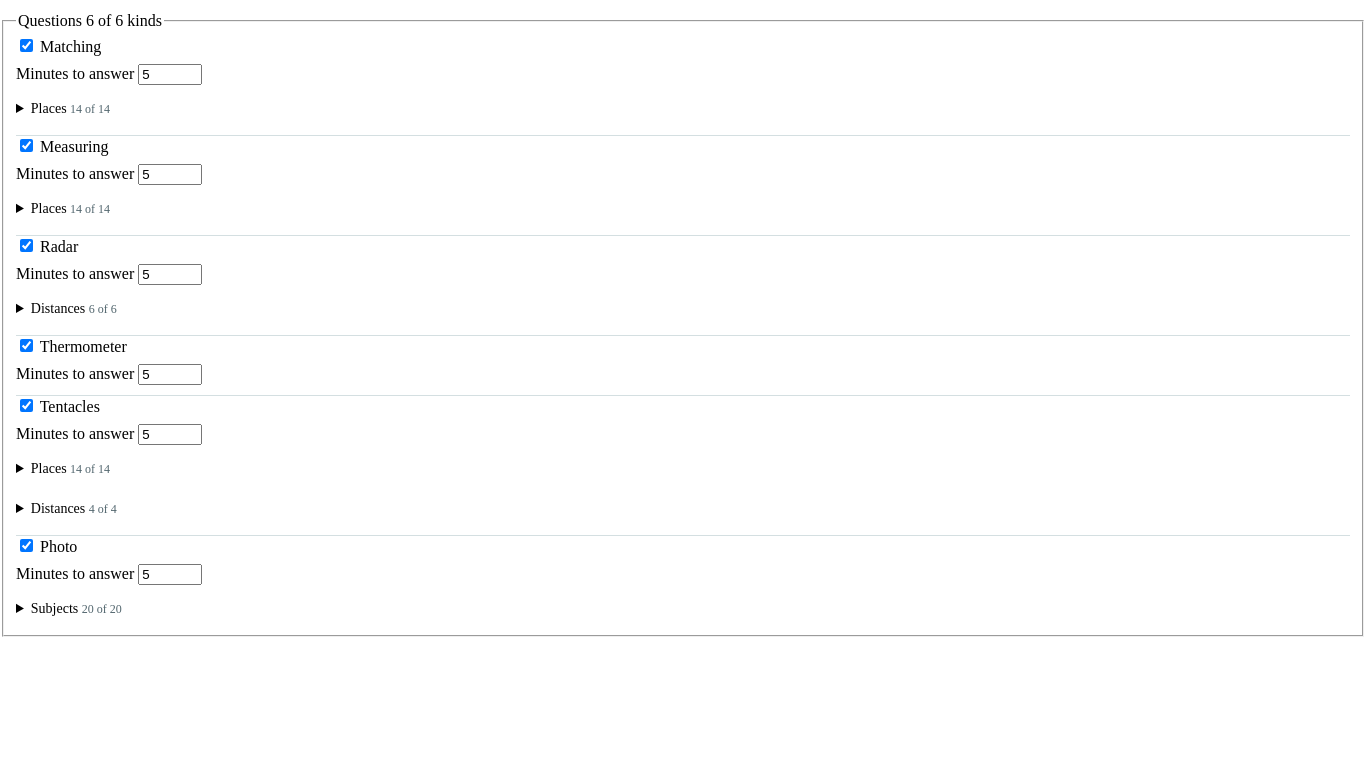
Test: TemplateQuestionsComponent › keeps the time to answer whole and in range, and gives a blank field the usual time
Replace the text in the number field with id "answer-minutes-RADAR" with "12" at (170, 274), box [138,264,202,285]
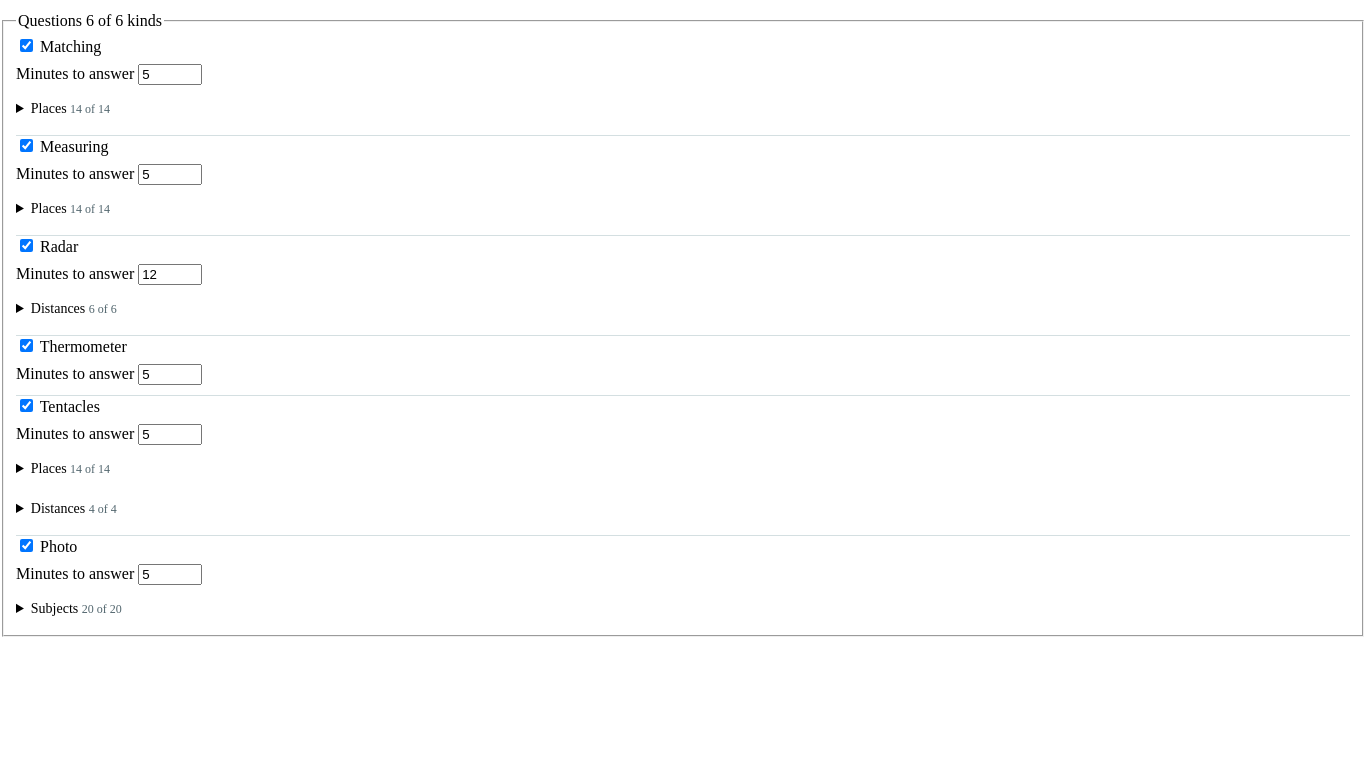
Replace the text in the number field with id "answer-minutes-RADAR" with "999" at (170, 274), box [138,264,202,285]
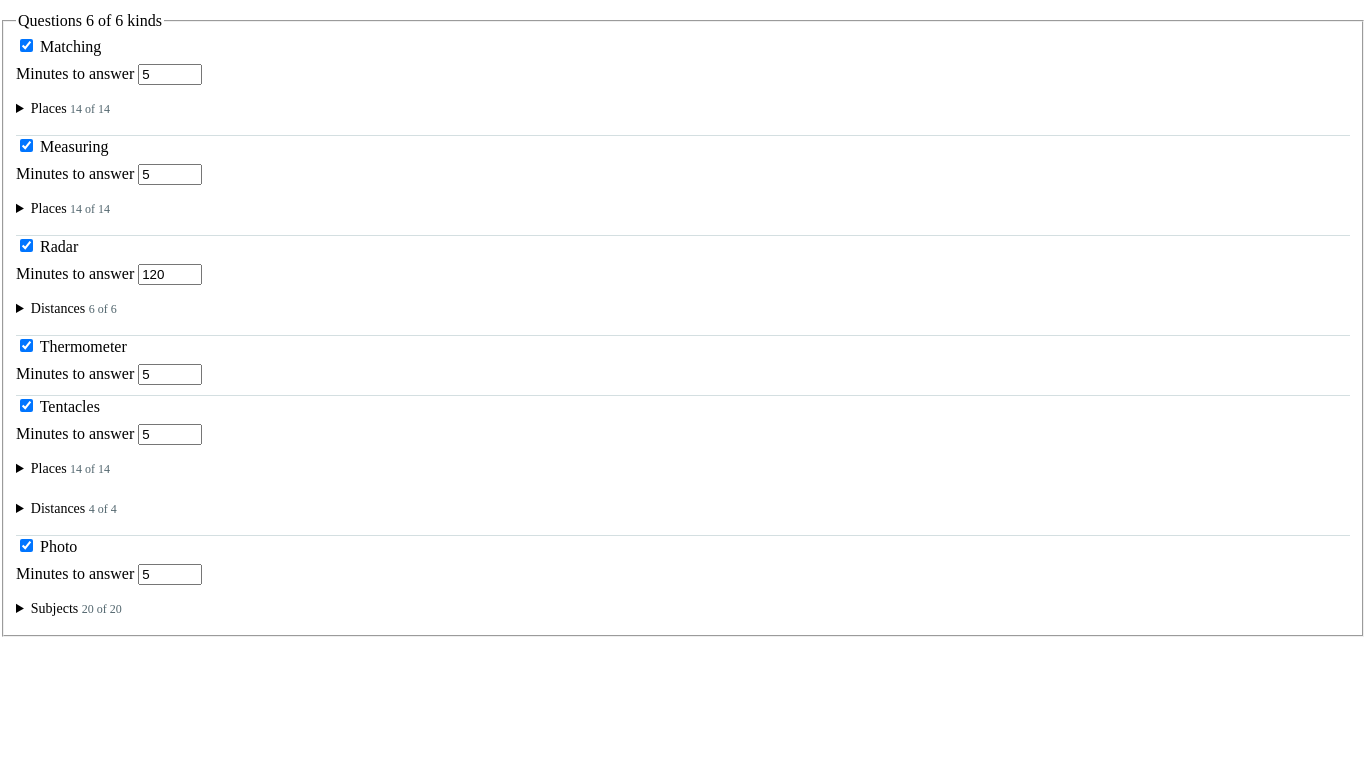
Check: the number field with id "answer-minutes-RADAR" holds "120"
Replace the text in the number field with id "answer-minutes-RADAR" with "0" at (170, 274), box [138,264,202,285]
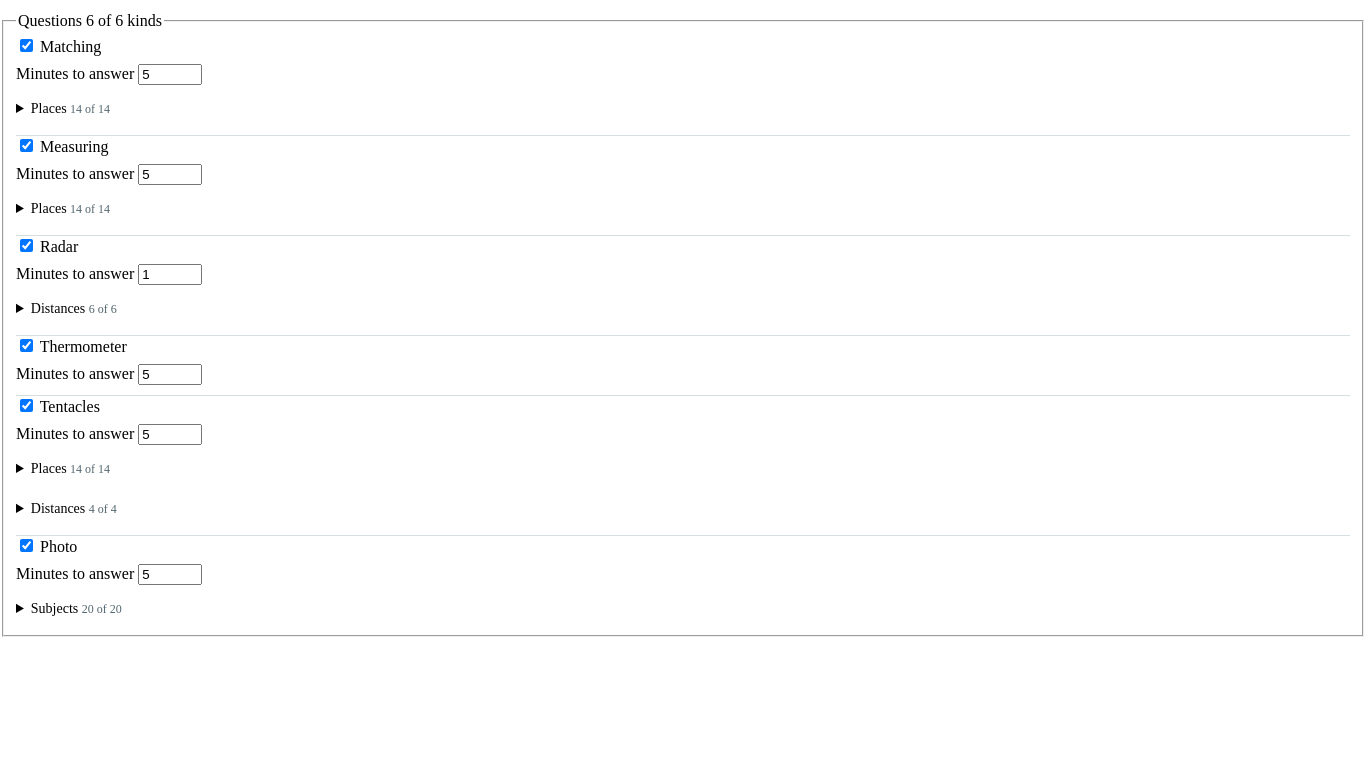
Clear the number field with id "answer-minutes-RADAR" at (170, 274), box [138,264,202,285]
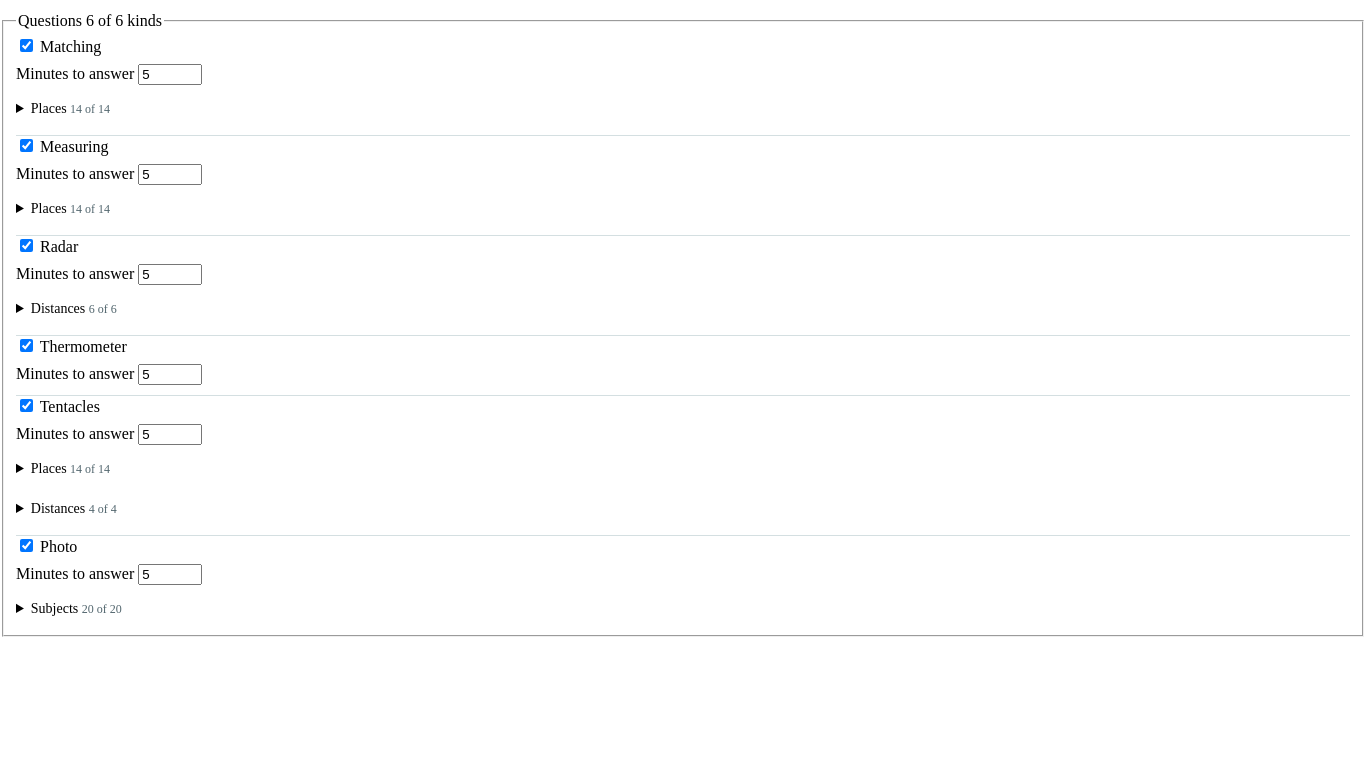
Check: the number field with id "answer-minutes-RADAR" holds "5", box [138,264,202,285]
